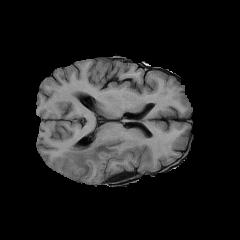glioma: (56, 136, 127, 176)
